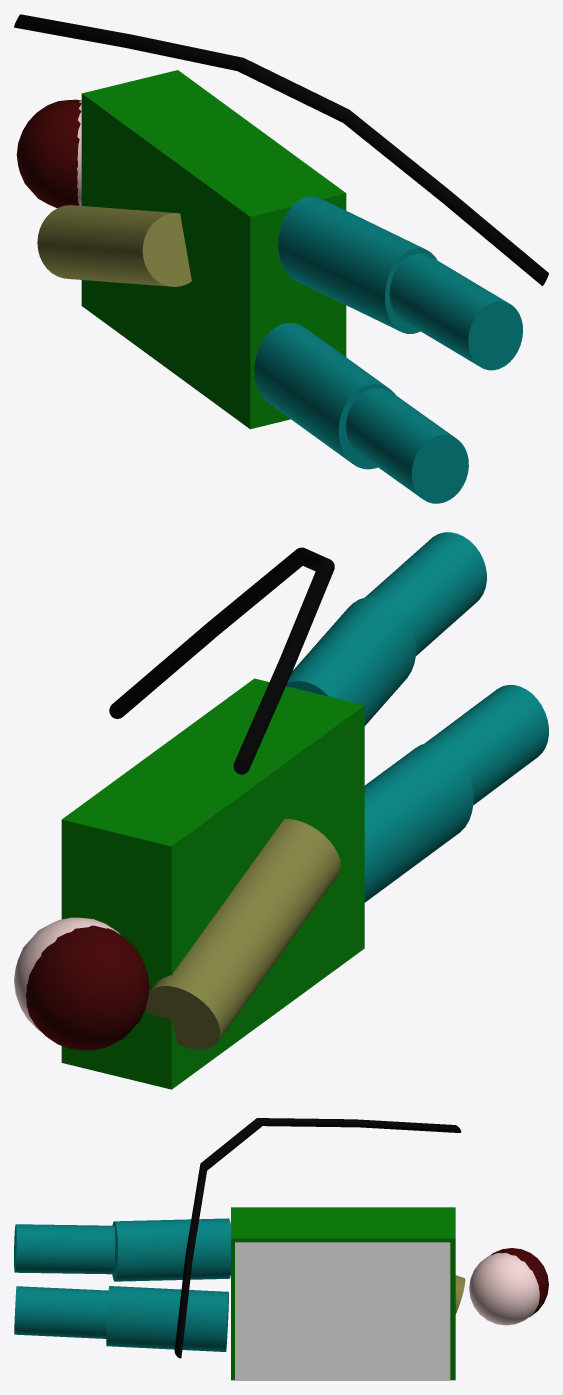
Rendered from archer.obj.
The picture shows the model from 3 angles, top to bottom: view 1: azimuth 30°, elevation 25°; view 2: azimuth 150°, elevation 25°; view 3: azimuth 270°, elevation 25°; orthographic projection. The views are drawn at different scales.
Parts seen in each view (by area): view 1: Default, Default_Upper_right_leg, Default_Quiver, Default_Upper_left_leg, Default_Lower_right_leg, Default_Bow, Default_Lower_left_leg, Default_Hair; view 2: Default, Default_Quiver, Default_Hair, Default_Upper_left_leg, Default_Upper_right_leg, Default_Bow, Default_Lower_left_leg, Default_Lower_right_leg, Default_Head; view 3: "Tabard", Default, Default_Upper_left_leg, Default_Upper_right_leg, Default_Lower_right_leg, Default_Lower_left_leg, Default_Bow, Default_Head, Default_Hair.
Boxes of the visible parts, x1,y1,x2,y2 form: Default: (81, 70, 346, 429); Default_Upper_right_leg: (278, 196, 437, 333); Default_Quiver: (37, 205, 191, 286); Default_Upper_left_leg: (254, 323, 395, 469); Default_Lower_right_leg: (389, 253, 522, 370); Default_Bow: (14, 14, 548, 285); Default_Lower_left_leg: (346, 388, 468, 503); Default_Hair: (16, 99, 81, 207); Default: (61, 678, 364, 1089); Default_Quiver: (146, 819, 340, 1049); Default_Hair: (26, 925, 149, 1050); Default_Upper_left_leg: (364, 743, 473, 902); Default_Upper_right_leg: (286, 596, 416, 725); Default_Bow: (109, 547, 334, 774); Default_Lower_left_leg: (424, 685, 548, 805); Default_Lower_right_leg: (365, 532, 486, 655); Default_Head: (14, 917, 120, 1031); "Tabard": (235, 1242, 450, 1380); Default: (231, 1207, 455, 1380); Default_Upper_left_leg: (106, 1286, 228, 1351); Default_Upper_right_leg: (112, 1218, 231, 1281); Default_Lower_right_leg: (14, 1224, 115, 1274); Default_Lower_left_leg: (14, 1286, 108, 1338); Default_Bow: (174, 1118, 461, 1358); Default_Head: (469, 1253, 539, 1325); Default_Hair: (490, 1248, 548, 1316).
Size of the model in its own units: 0.1024 by 0.105 by 0.2167.
